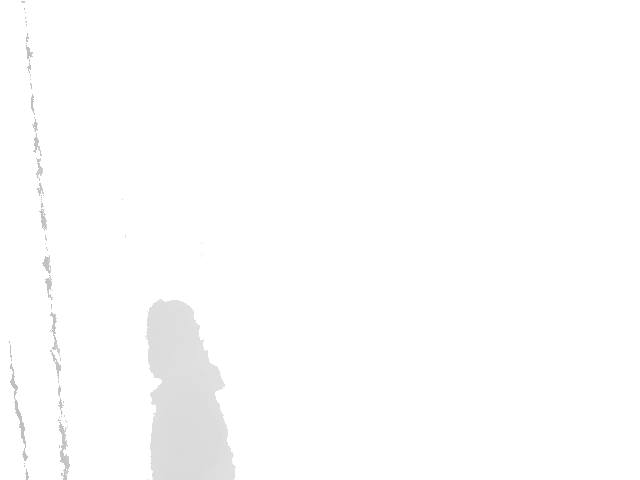head: (147, 299, 200, 379)
person: (146, 299, 236, 480)
